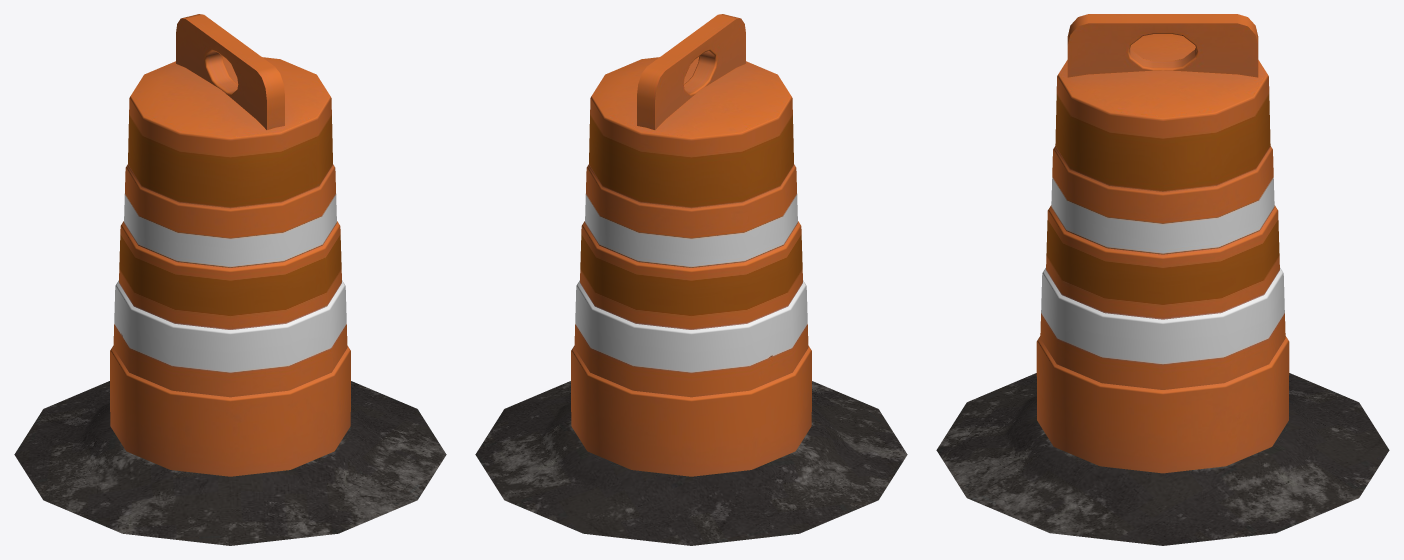
The model's file is safety_cone.glb.
3 renders of one model, left to right at view 1: azimuth 30°, elevation 25°; view 2: azimuth 150°, elevation 25°; view 3: azimuth 270°, elevation 25°, orthographic. The views are drawn at different scales.
Visible parts, largest first — view 1: safetyCone; view 2: safetyCone; view 3: safetyCone.
Boxes of the visible parts, x1=… form: safetyCone: x1=14, y1=14, x2=446, y2=545; safetyCone: x1=475, y1=14, x2=907, y2=545; safetyCone: x1=936, y1=14, x2=1389, y2=545.
Size of the model in its own units: 0.6123 by 0.6435 by 0.6123.
1 material, 1 textured.
